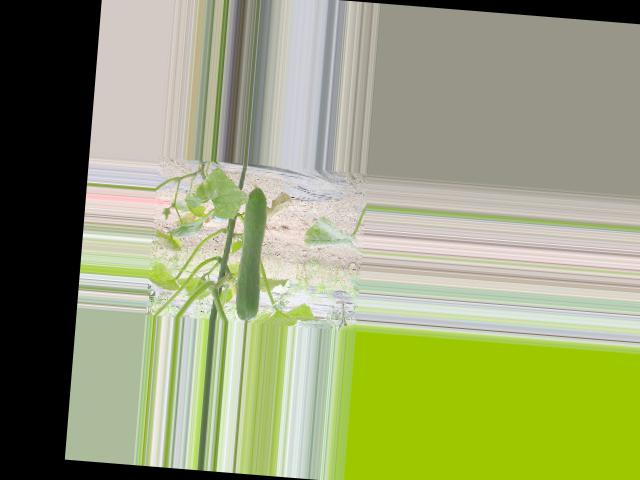cucumber: (234, 182, 269, 321)
